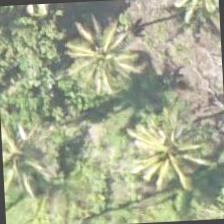Kelapa_Sawit: (125, 100, 220, 196), (57, 7, 152, 102), (53, 7, 148, 102), (0, 109, 62, 203), (176, 169, 223, 221)
